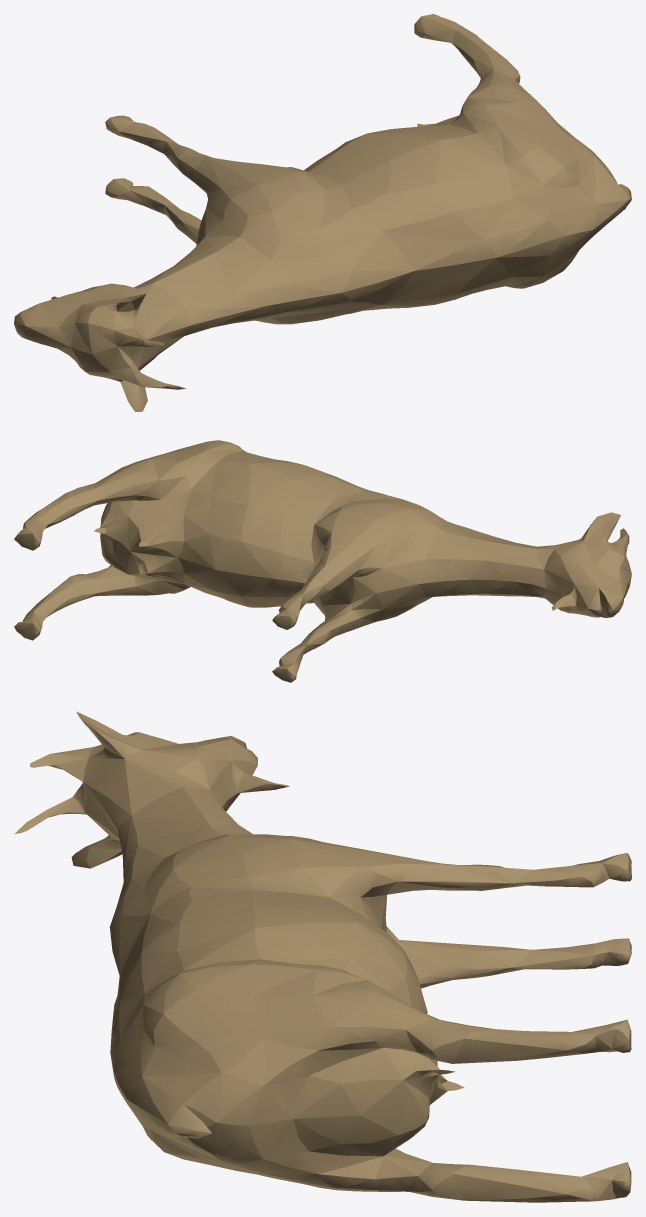
File: goat.obj
3 views of the same model, one above another, from view 1: azimuth 30°, elevation 25°; view 2: azimuth 150°, elevation 25°; view 3: azimuth 270°, elevation 25° (orthographic). The views are drawn at different scales.
Visible parts, largest first — view 1: grp1_2_Untitled; view 2: grp1_2_Untitled; view 3: grp1_2_Untitled.
Part boxes in pixels (bbox=[...]): grp1_2_Untitled: bbox=[14, 14, 631, 411]; grp1_2_Untitled: bbox=[14, 440, 631, 682]; grp1_2_Untitled: bbox=[14, 711, 631, 1202].
Bounding box in the file's own units: 9.44 × 2.27 × 6.39.
